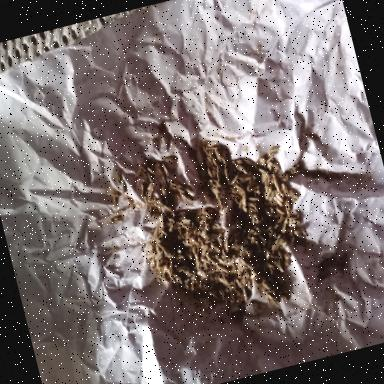pbw: (158, 237, 172, 261), (232, 156, 248, 176), (250, 227, 266, 246), (178, 188, 194, 206), (270, 170, 281, 195), (176, 216, 193, 232), (245, 200, 259, 219), (168, 184, 181, 204), (104, 182, 120, 198), (293, 225, 308, 242), (233, 260, 245, 279), (244, 178, 260, 192), (252, 222, 268, 236), (216, 272, 230, 288), (262, 184, 275, 201), (252, 235, 262, 257), (268, 238, 283, 252), (222, 233, 233, 252), (213, 252, 226, 268), (160, 184, 170, 204), (213, 164, 224, 182), (227, 172, 241, 186), (288, 187, 300, 203), (204, 140, 220, 152), (282, 198, 292, 217), (216, 262, 229, 276), (198, 243, 210, 258), (239, 194, 249, 212), (166, 258, 176, 276), (245, 192, 260, 204), (108, 213, 124, 224), (258, 170, 270, 184), (170, 176, 182, 190), (278, 219, 290, 233), (273, 259, 284, 274), (264, 144, 280, 154), (192, 252, 202, 268), (198, 253, 210, 266), (204, 232, 218, 243), (162, 153, 176, 164), (262, 286, 272, 301), (118, 178, 127, 194), (156, 273, 168, 285), (184, 184, 195, 197), (202, 206, 212, 220), (114, 170, 124, 184), (186, 246, 195, 261), (167, 222, 179, 233), (272, 194, 282, 207), (214, 146, 222, 162), (138, 182, 146, 198), (158, 212, 166, 228), (151, 228, 161, 240), (148, 258, 158, 270), (264, 153, 276, 163), (162, 161, 170, 175), (110, 193, 118, 207), (243, 156, 254, 166), (196, 268, 207, 278), (274, 205, 284, 216), (146, 250, 156, 260), (175, 263, 186, 272), (206, 166, 213, 180), (169, 272, 176, 286), (112, 208, 124, 216), (160, 264, 169, 274), (219, 248, 226, 260), (264, 250, 272, 260), (242, 288, 248, 300), (182, 238, 190, 246), (288, 219, 296, 227)
